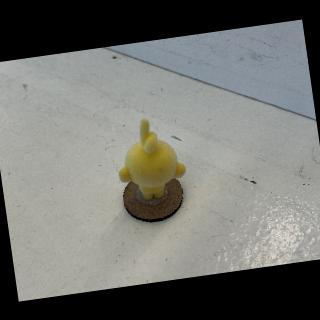teletubby: (118, 118, 185, 200)
